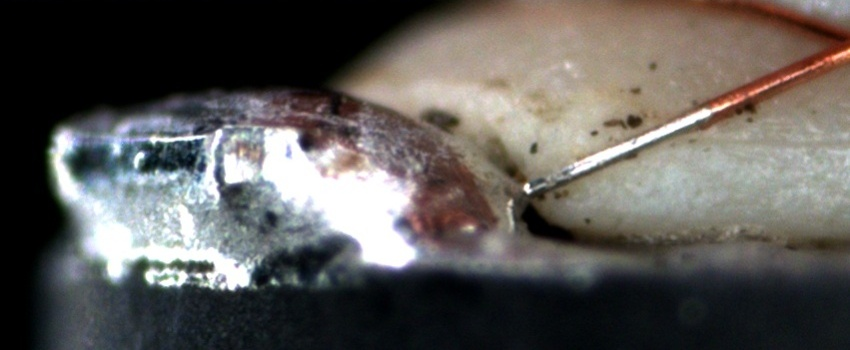CL: (802, 13, 850, 74)
DL: (694, 111, 849, 168)
TS: (523, 105, 712, 195)
